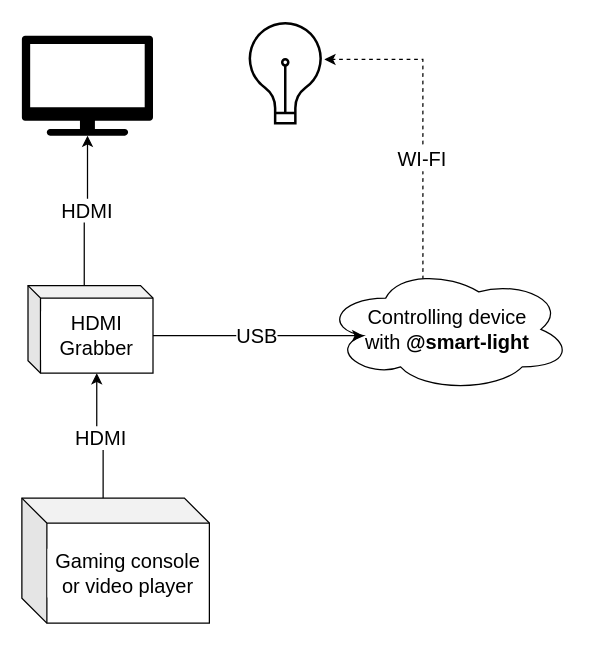
Image size: 594x645. Some labels were removed from this diagram. Here are the shapes that lost their labels. From the top down, the centre of each, then its label:
point (86, 85): Monitor
point (284, 72): Yeelight LED
